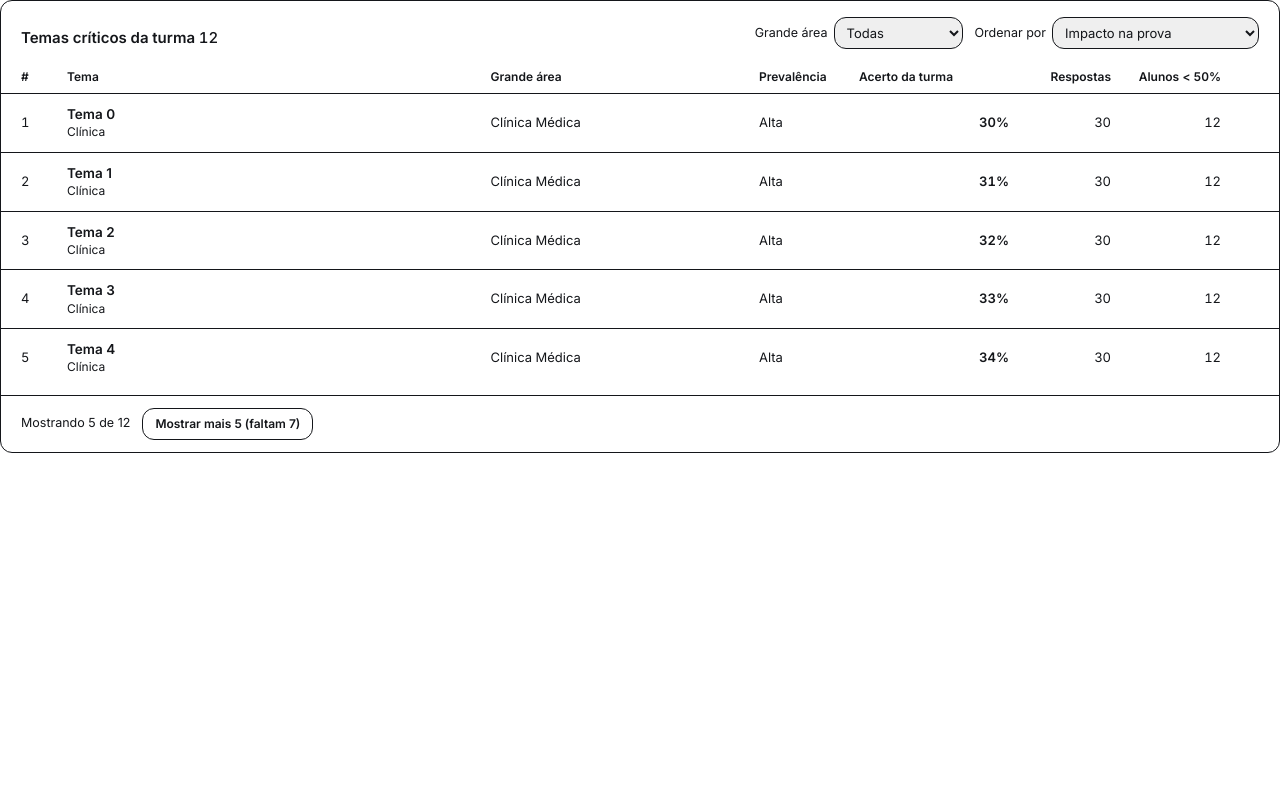
Test case: filtro e ordenação voltam para cinco e lista curta não expande
Click the button "Mostrar mais 5 (faltam 7)" at (228, 424), box [142,408,313,440]
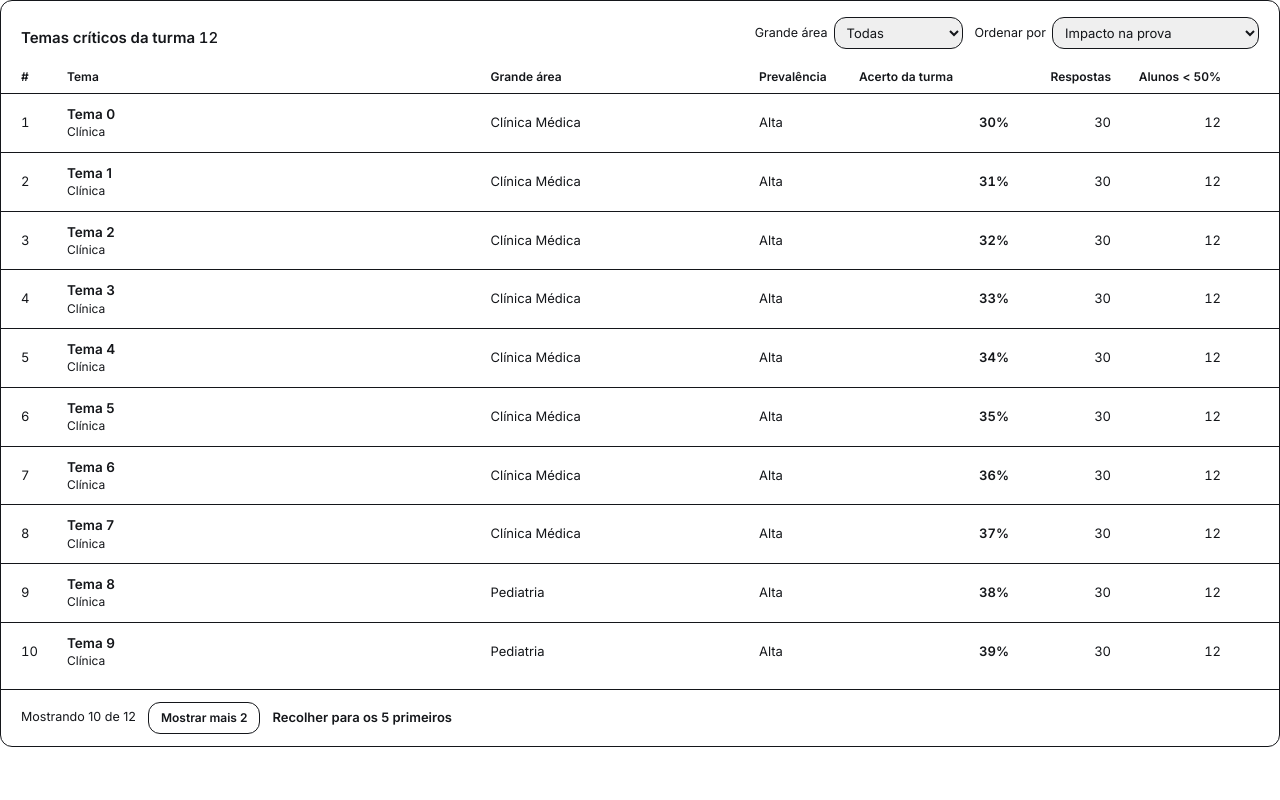
Select "Menor acerto" in the dropdown labelled "Ordenar por" at (1156, 33), box [1052,17,1259,49]
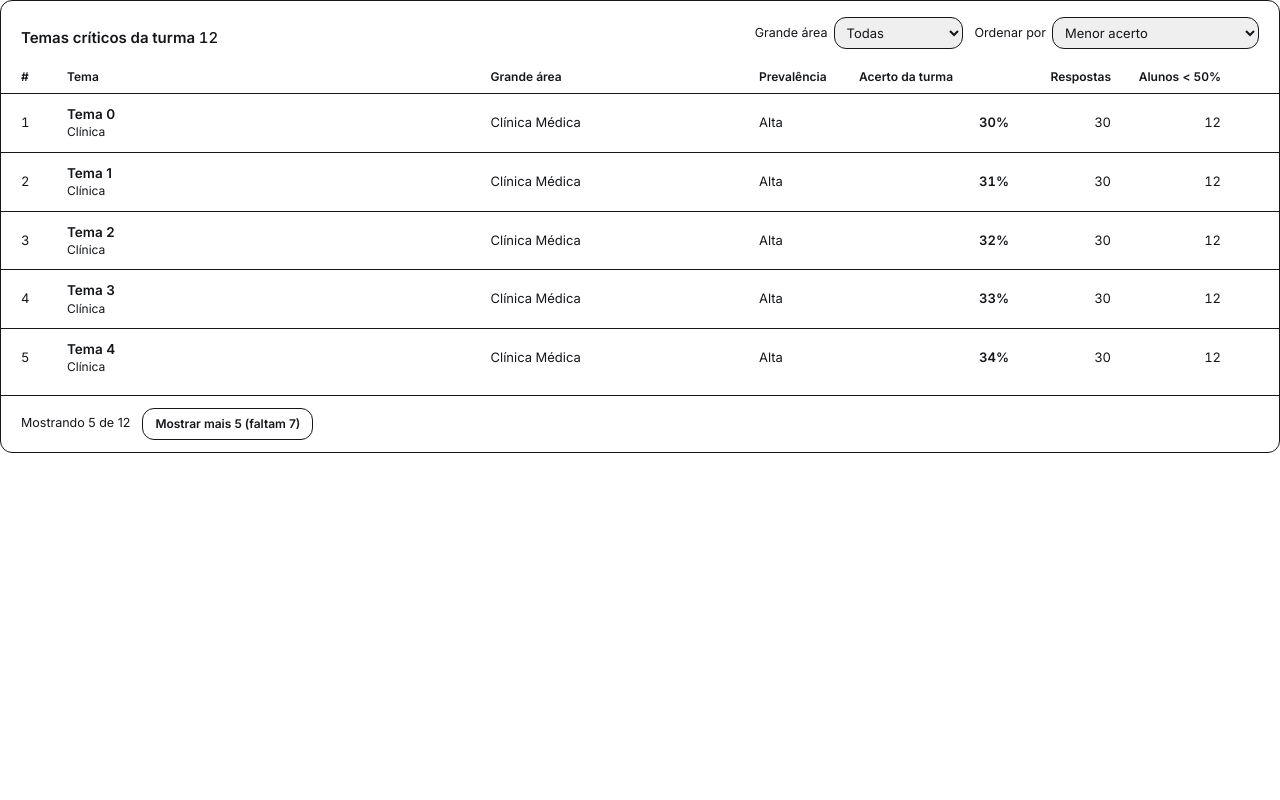
Now the text "Mostrando 5 de 12" is shown, box [21,414,130,433]
Click the button "Mostrar mais 5 (faltam 7)" at (228, 424), box [142,408,313,440]
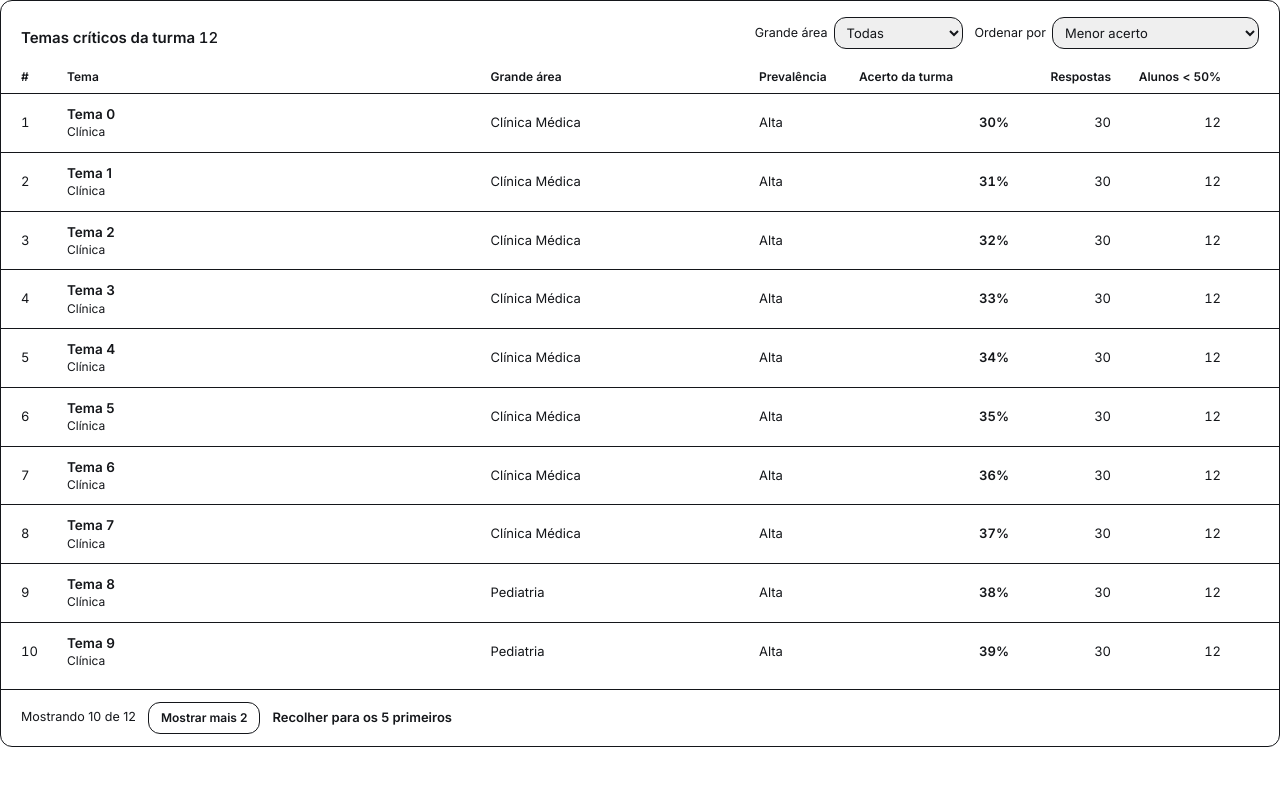
Select "Clínica Médica" in the dropdown labelled "Grande área" at (898, 33), box [834,17,962,49]
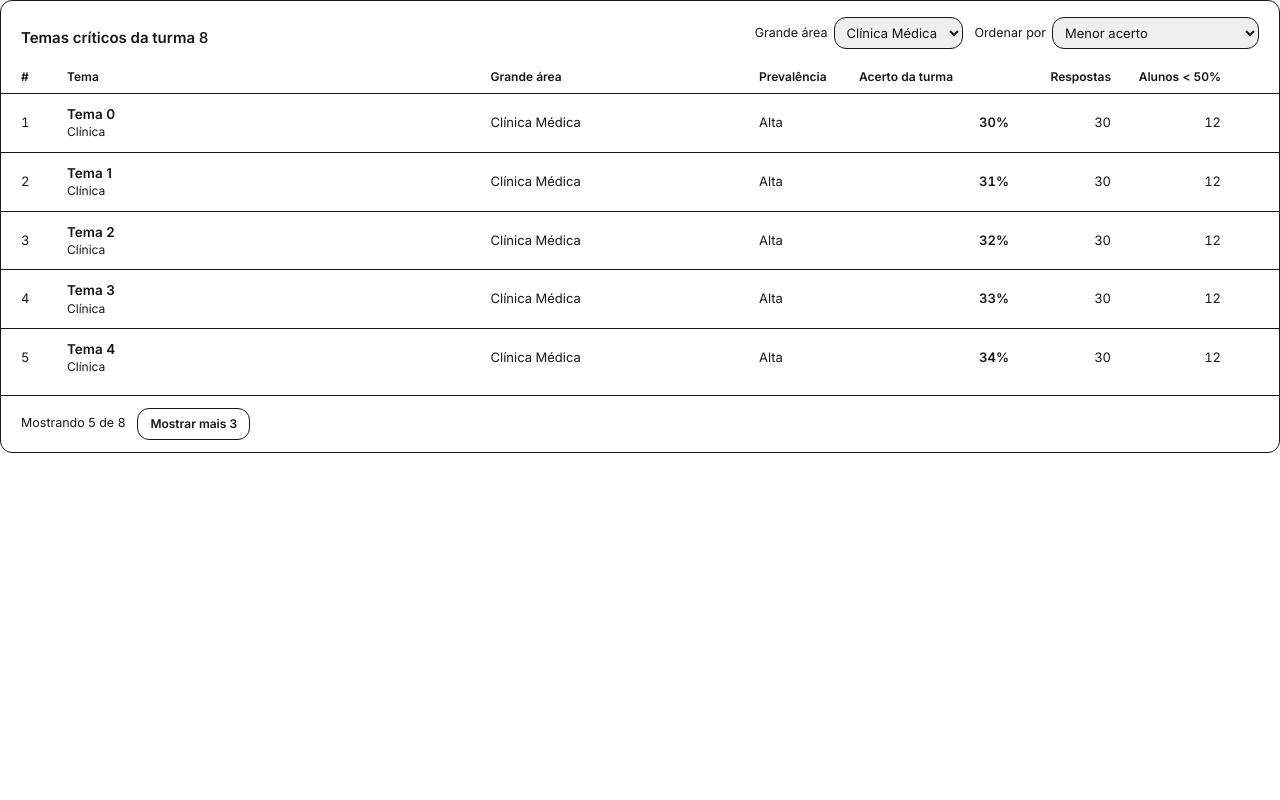
Now the text "Mostrando 5 de 8" is shown, box [21,414,125,433]
Select "Pediatria" in the dropdown labelled "Grande área" at (898, 33), box [834,17,962,49]
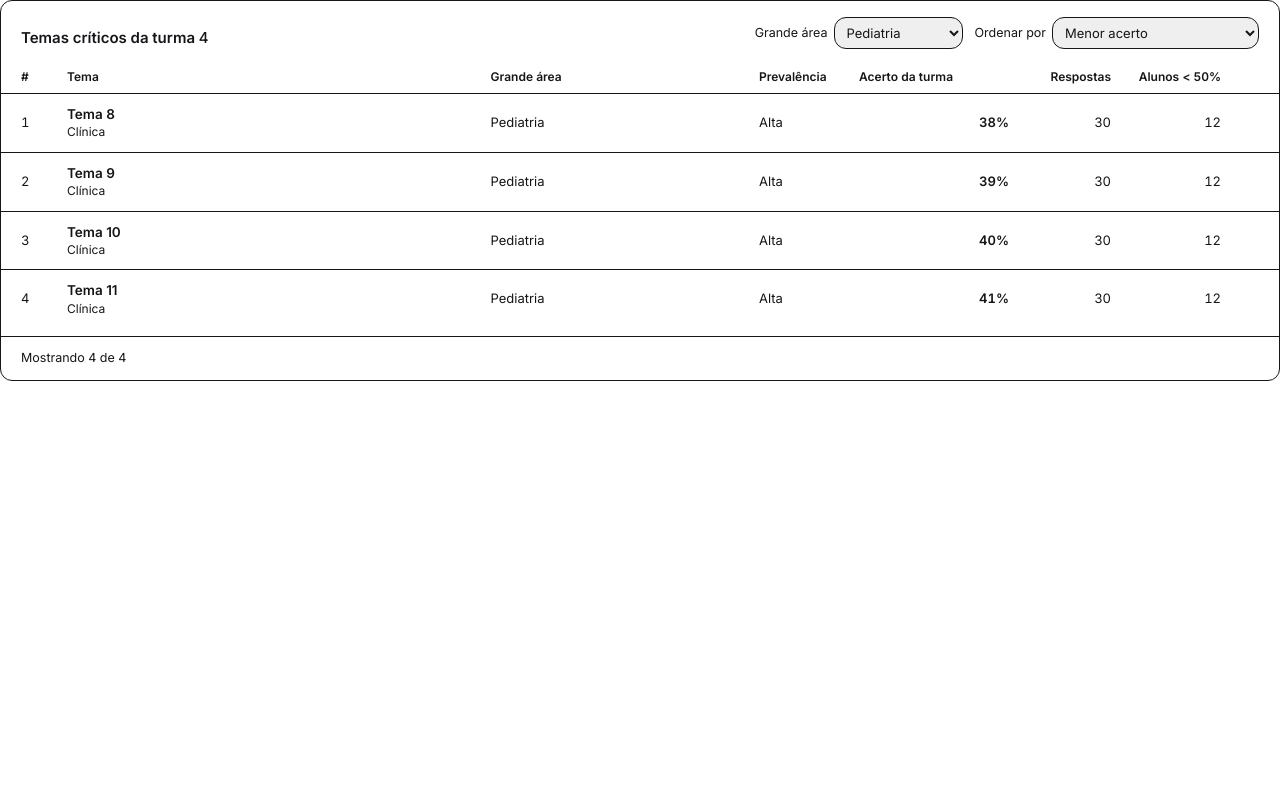
Now the text "Mostrando 4 de 4" is shown, box [21,349,126,368]
Now the button "Mostrar mais 3" is gone
